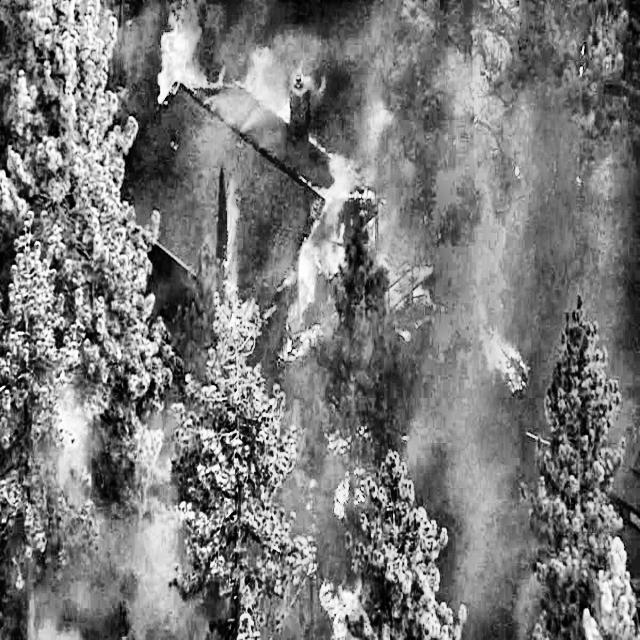fire: (120, 2, 520, 447), (450, 302, 593, 518), (294, 450, 410, 640), (562, 44, 615, 126)
